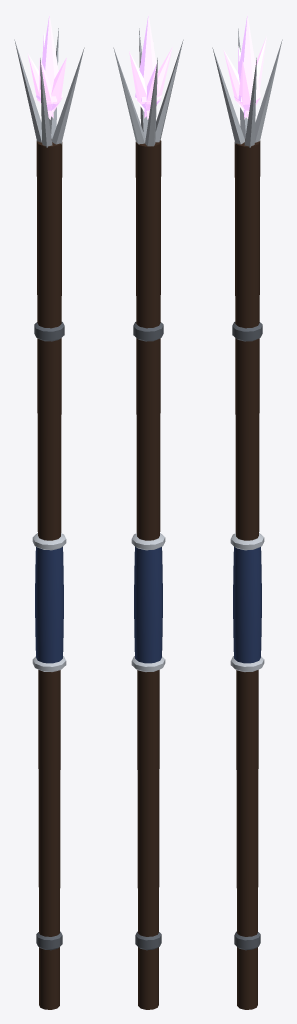
Rendered from staff_crystal.glb.
3 renders of one model, left to right at view 1: azimuth 30°, elevation 25°; view 2: azimuth 150°, elevation 25°; view 3: azimuth 330°, elevation 25°, orthographic.
Visible parts, largest first — view 1: staff_crystal; view 2: staff_crystal; view 3: staff_crystal.
Part boxes in pixels (left/top/right/bottom): staff_crystal: left=14, top=14, right=84, bottom=1009; staff_crystal: left=113, top=14, right=183, bottom=1009; staff_crystal: left=212, top=14, right=282, bottom=1009.
Size of the model in its own units: 0.0849 by 1.79 by 0.0849.
